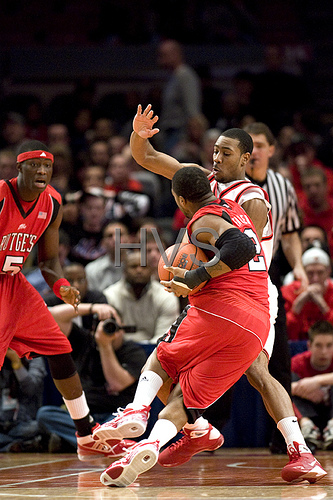basketball: (158, 242, 209, 293)
